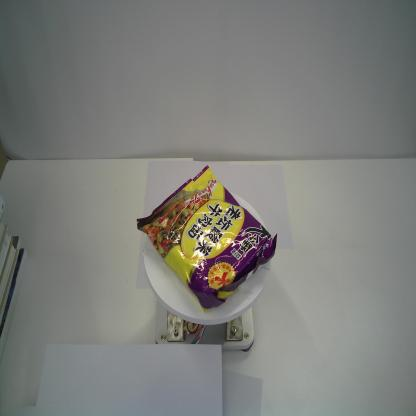Instant Noodles: (136, 164, 278, 314)
